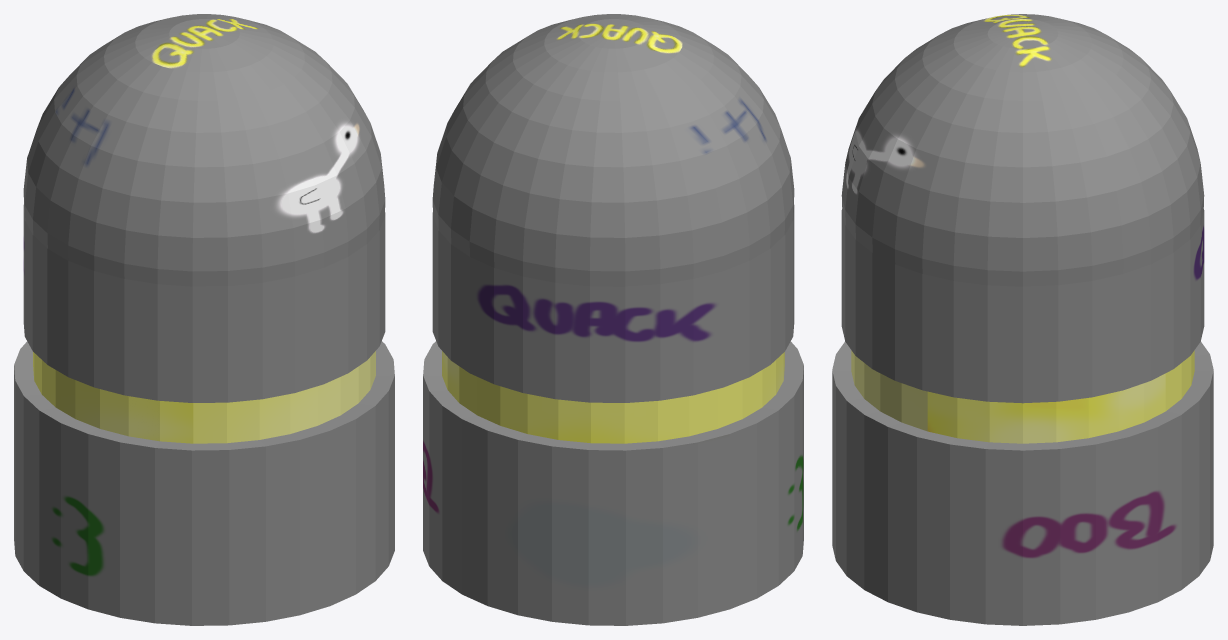
Rendered from bullet.fbx.
3 renders of one model, left to right at view 1: azimuth 30°, elevation 25°; view 2: azimuth 150°, elevation 25°; view 3: azimuth 270°, elevation 25°, orthographic.
Parts seen in each view (by area): view 1: Cylinder; view 2: Cylinder; view 3: Cylinder.
Part boxes in pixels (x1,y1,x2,y2): Cylinder: (14, 14, 394, 625); Cylinder: (423, 14, 803, 625); Cylinder: (832, 14, 1213, 625).
Bounding box in the file's own units: 2 × 2 × 2.98.
1 material, 1 textured.
